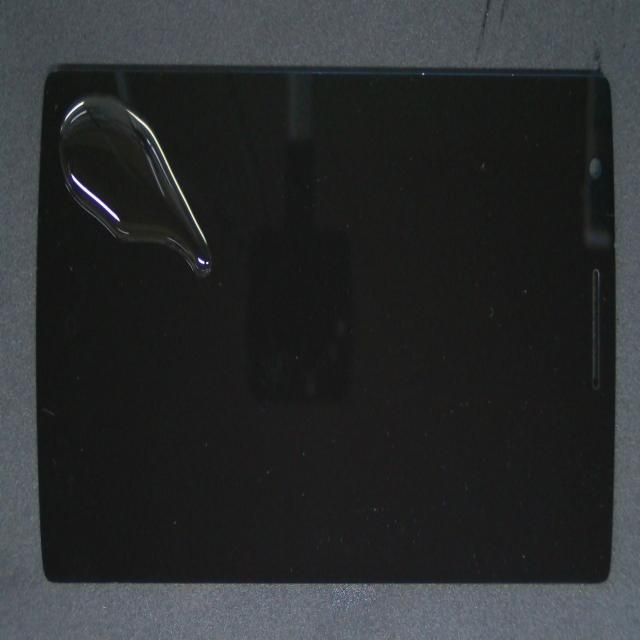oil: (28, 128, 214, 389)
